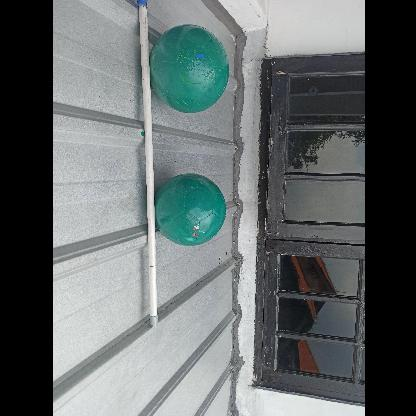green_ball: (146, 27, 233, 114), (152, 175, 226, 249)
